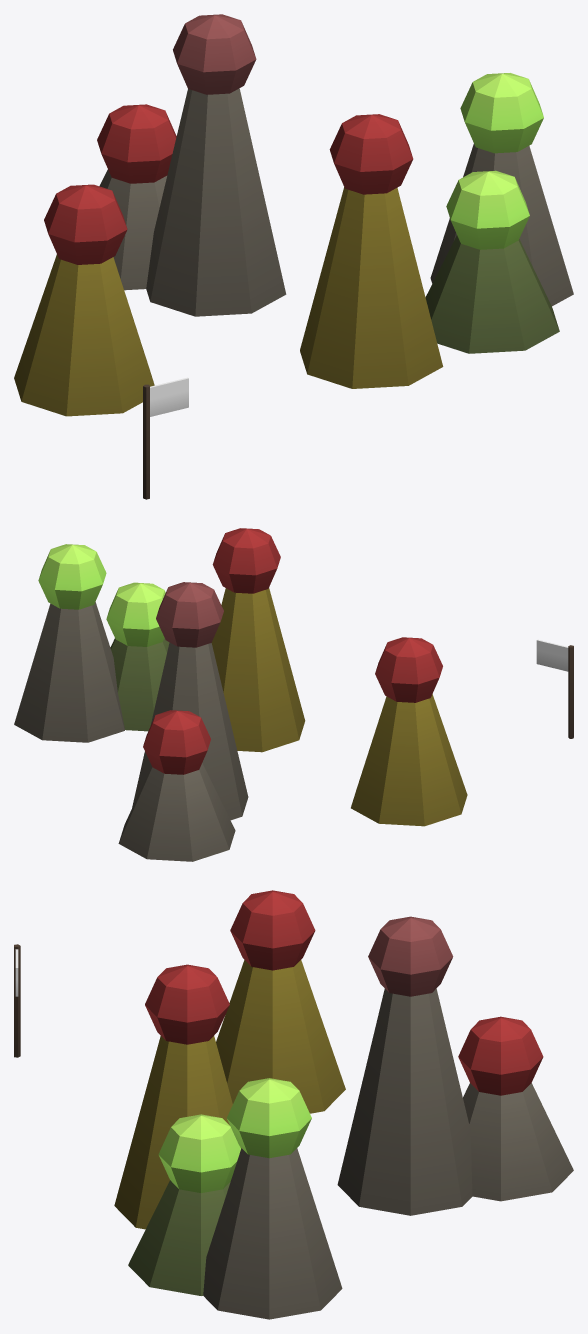
Rendered from OFF_BLD3.glb.
3 renders of one model, top to bottom at view 1: azimuth 30°, elevation 25°; view 2: azimuth 150°, elevation 25°; view 3: azimuth 270°, elevation 25°, orthographic. The views are drawn at different scales.
Parts seen in each view (by area): view 1: Body, Flag; view 2: Body, Flag; view 3: Body.
Part boxes in pixels (left/top/right/bottom): Body: left=14, top=14, right=573, bottom=499; Flag: left=150, top=377, right=188, bottom=416; Body: left=14, top=528, right=573, bottom=861; Flag: left=536, top=639, right=568, bottom=671; Body: left=14, top=890, right=573, bottom=1319.
Bounding box in the file's own units: 5.14 × 2.42 × 4.59.
1 material, 1 textured.
